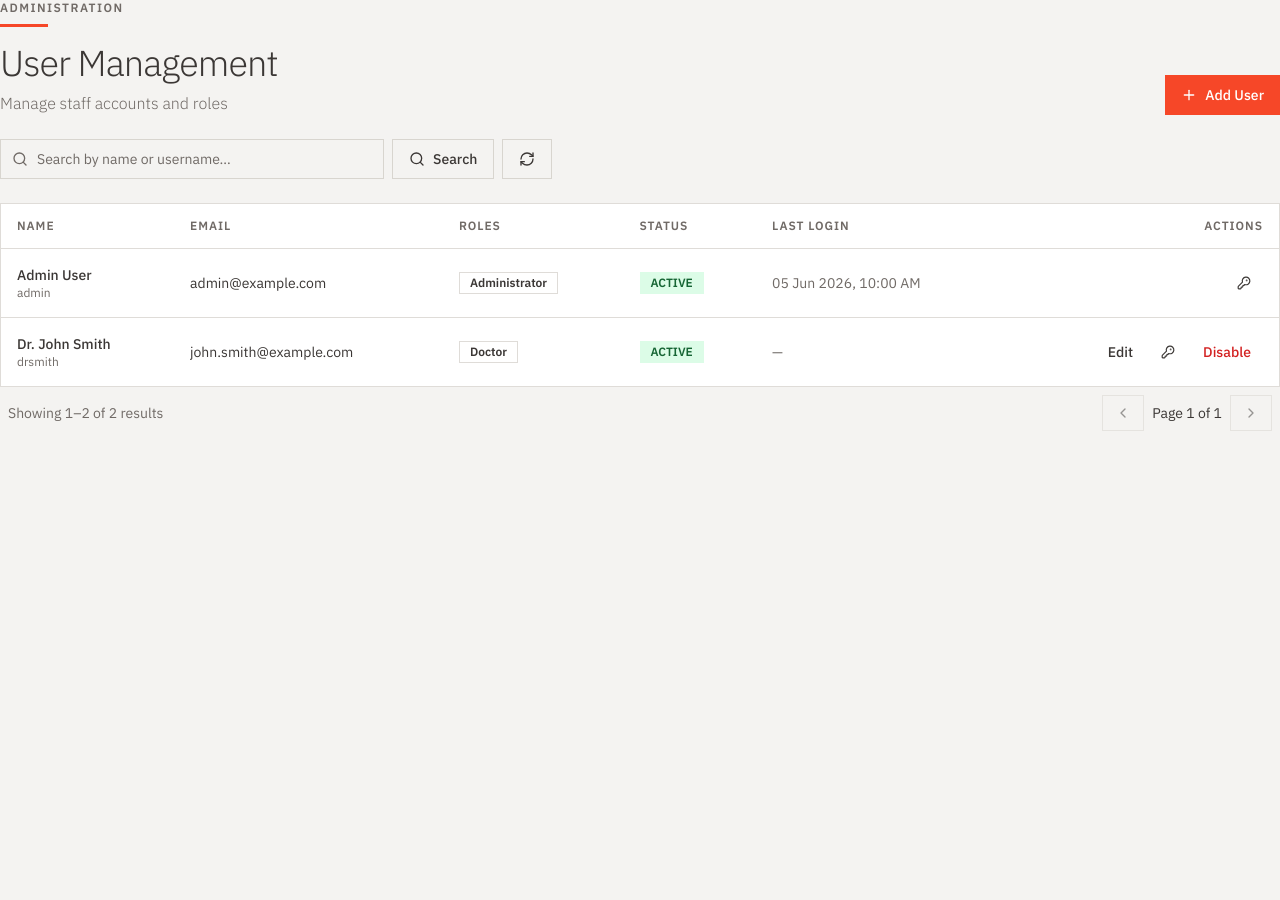
Test: UsersListPage › opens Edit User dialog when Edit is clicked
Click the button with aria-label "edit dr. john smith".
click(1120, 352)  # box left=1096, top=334, right=1145, bottom=370
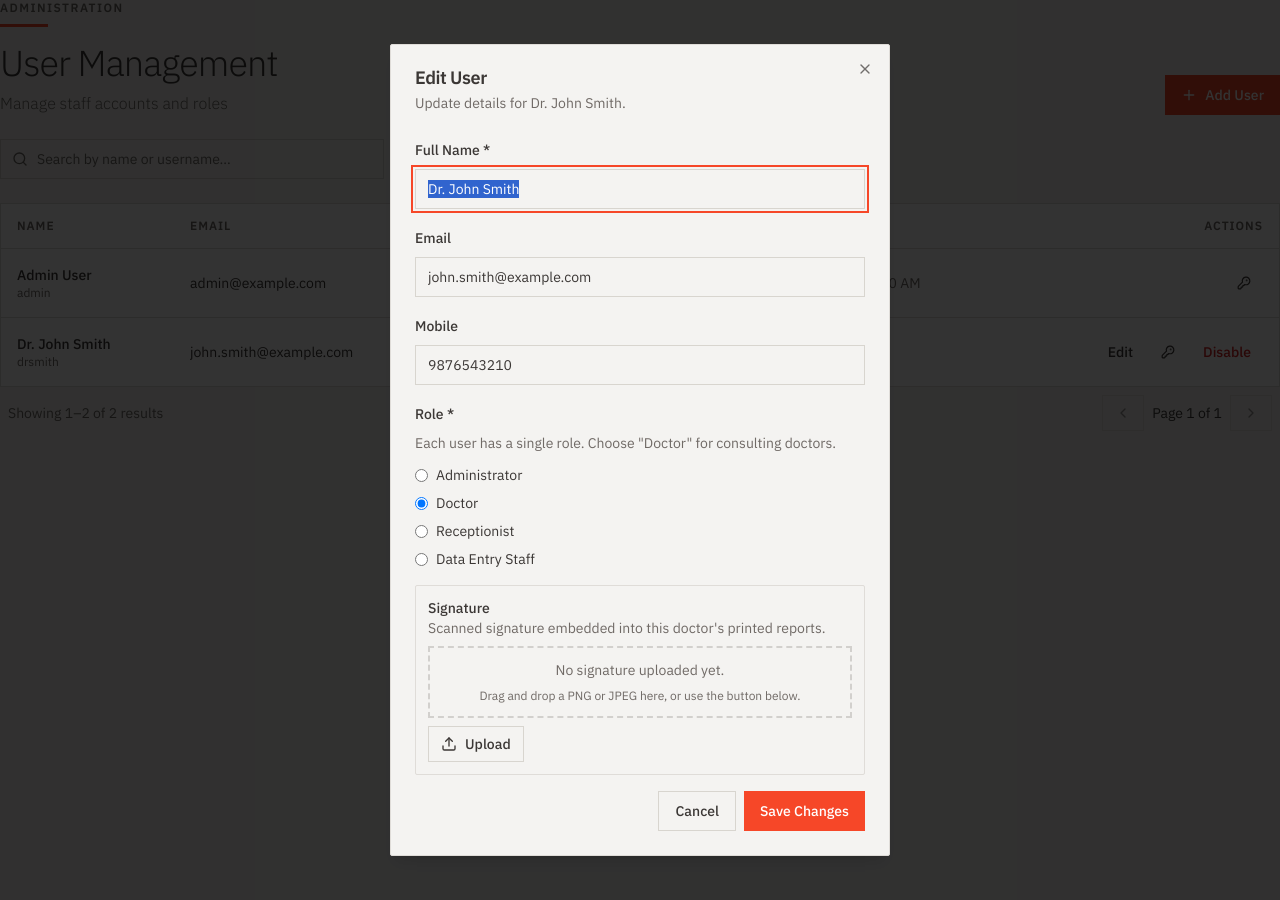
expect the dialog "Edit User" is shown: met, box left=390, top=44, right=890, bottom=856
